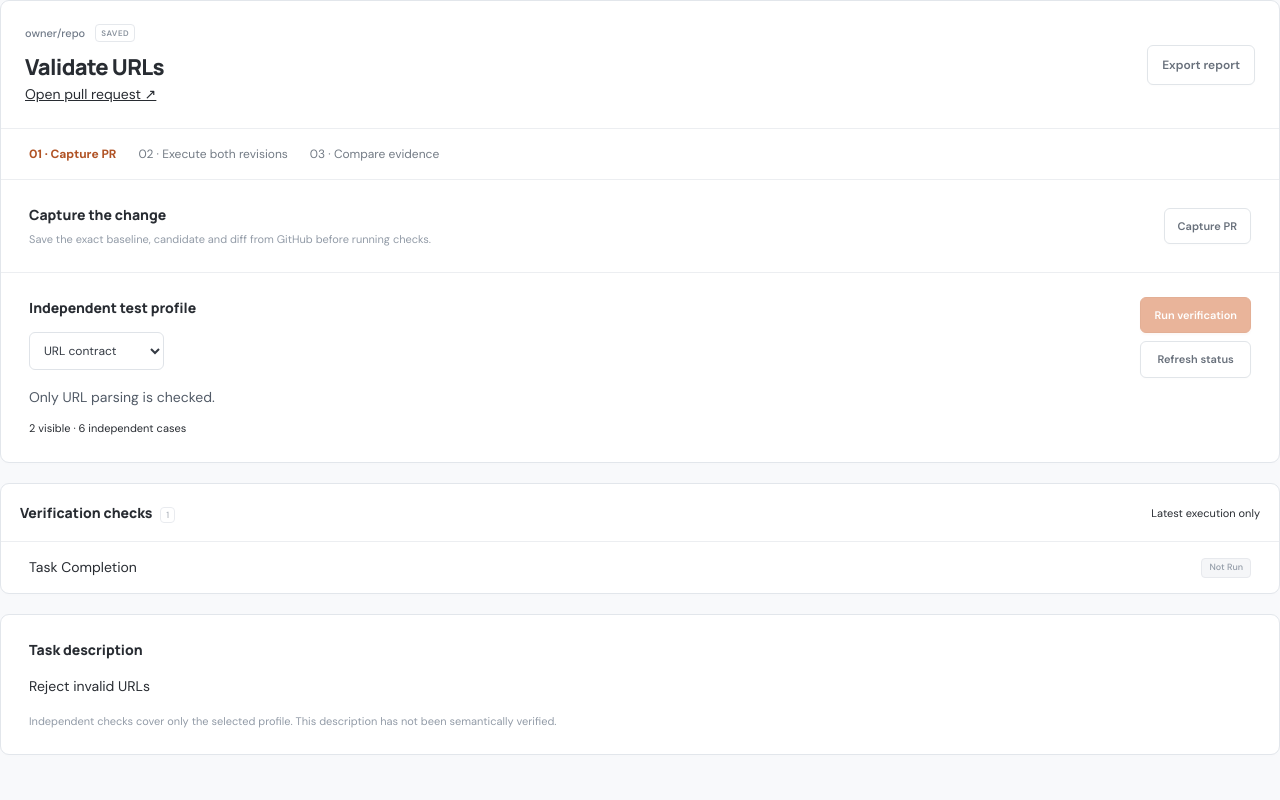
it: captures an immutable snapshot before enabling execution
Check: the button "Run verification" is disabled, box [1140, 296, 1251, 333]
Click the button "Capture PR": (1207, 226) [1164, 208, 1251, 244]
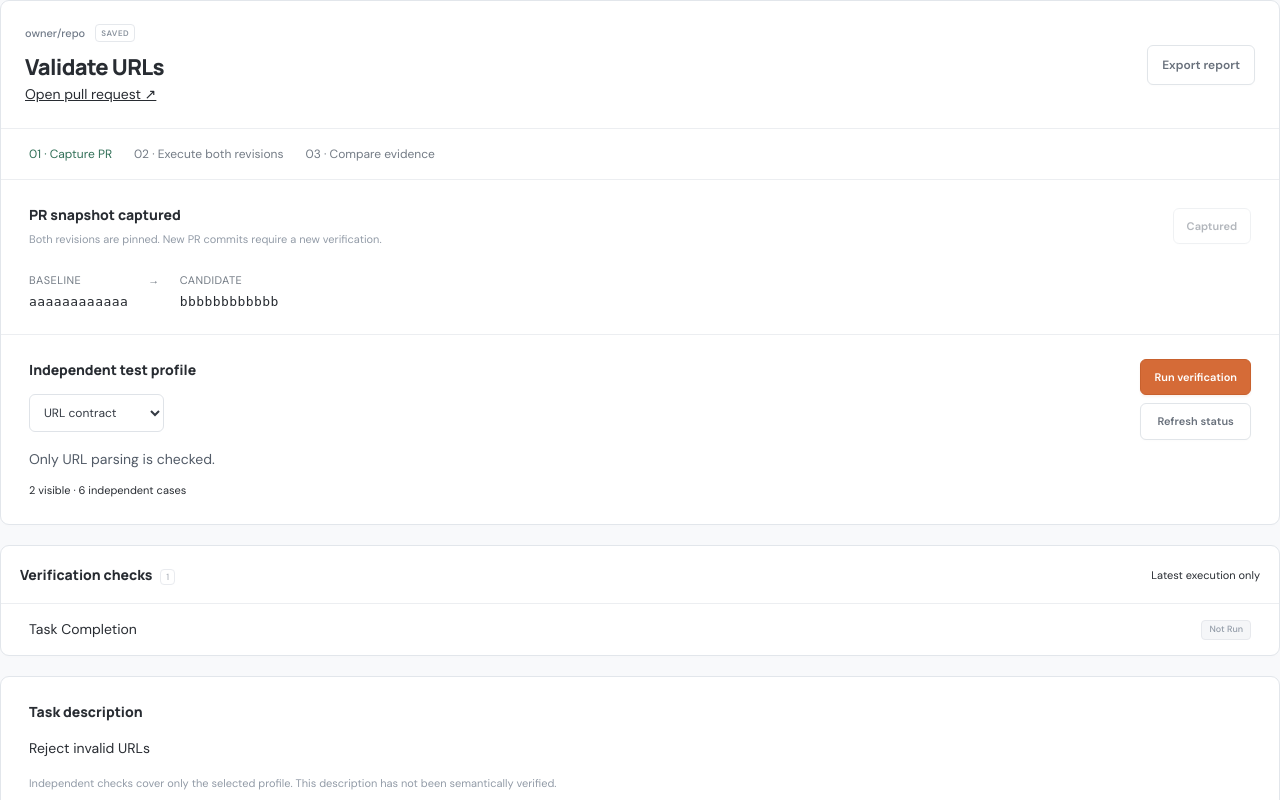
Check: the heading "PR snapshot captured" is shown, box [29, 205, 181, 224]
Check: the button "Run verification" is enabled, box [1140, 358, 1251, 395]
Check: the text "aaaaaaaaaaaa" is shown, box [29, 292, 128, 312]
